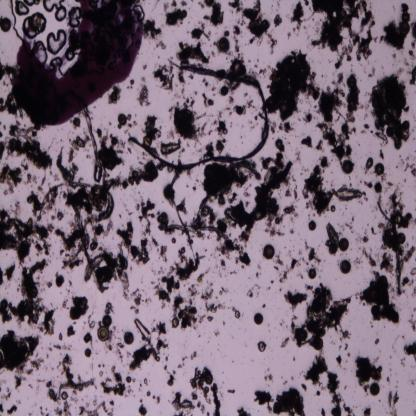Air bubble: (42, 27, 70, 55), (44, 0, 67, 20), (12, 0, 30, 16), (94, 165, 101, 183)
Background material: (266, 50, 322, 121), (367, 72, 411, 151), (0, 205, 54, 266), (84, 248, 137, 304), (201, 159, 261, 207), (9, 258, 50, 327), (306, 0, 361, 51), (177, 282, 229, 330), (7, 122, 54, 172), (360, 270, 400, 325), (166, 98, 210, 142), (303, 280, 334, 340), (302, 167, 336, 220), (240, 181, 268, 243), (320, 118, 356, 165), (0, 329, 41, 370), (115, 162, 163, 187), (319, 84, 346, 126), (326, 292, 353, 332), (244, 0, 270, 40), (175, 38, 212, 66), (98, 135, 126, 172), (171, 250, 203, 281), (68, 187, 104, 214), (355, 354, 383, 388), (273, 388, 307, 416), (56, 146, 80, 183), (134, 198, 156, 238), (129, 342, 160, 369), (326, 370, 344, 416), (152, 62, 176, 94), (260, 150, 285, 180), (0, 163, 22, 197), (304, 353, 326, 387), (347, 71, 361, 124), (356, 27, 375, 64), (224, 203, 249, 230), (384, 22, 408, 50), (378, 222, 400, 252), (334, 40, 355, 70), (98, 374, 126, 396), (151, 280, 172, 309), (40, 304, 58, 337), (285, 290, 309, 314), (187, 364, 209, 390), (116, 220, 134, 251), (395, 152, 416, 178), (78, 398, 108, 416), (389, 186, 409, 213), (360, 0, 377, 31), (132, 238, 151, 265), (60, 352, 76, 384), (252, 390, 273, 414), (68, 295, 88, 320), (218, 236, 242, 256), (291, 0, 305, 34), (144, 113, 161, 139), (190, 21, 212, 41), (12, 361, 26, 392), (67, 134, 91, 152), (57, 252, 80, 270), (235, 246, 252, 269), (144, 16, 160, 40), (163, 8, 184, 26), (378, 252, 394, 275), (211, 0, 225, 25), (137, 83, 151, 108), (26, 190, 41, 213), (161, 275, 180, 293), (261, 196, 278, 216), (106, 84, 122, 104), (362, 246, 377, 267), (151, 318, 168, 336), (212, 382, 221, 416), (53, 399, 71, 416), (152, 337, 172, 352), (278, 120, 294, 138), (339, 122, 357, 138), (278, 264, 292, 284), (157, 211, 170, 232), (377, 200, 390, 221), (107, 176, 125, 191), (330, 70, 344, 89), (404, 340, 416, 362), (264, 228, 286, 240), (403, 244, 416, 264), (172, 295, 184, 316), (170, 391, 182, 412), (200, 90, 214, 108), (308, 247, 322, 265), (31, 352, 45, 370), (267, 32, 278, 54), (0, 130, 8, 159), (317, 151, 329, 170), (162, 185, 176, 201), (130, 287, 142, 305), (54, 270, 66, 288), (201, 142, 213, 160), (283, 204, 298, 218), (176, 146, 186, 166), (407, 64, 416, 86), (402, 212, 416, 226), (300, 135, 314, 149), (226, 80, 238, 96), (158, 244, 168, 263), (290, 314, 297, 341), (85, 313, 96, 330), (230, 0, 244, 13), (178, 198, 188, 216), (4, 264, 15, 280), (273, 10, 282, 29), (340, 324, 350, 341), (218, 119, 228, 136), (343, 403, 356, 416), (0, 309, 13, 322), (226, 93, 238, 107), (197, 123, 209, 137), (110, 366, 121, 381), (113, 347, 124, 362), (47, 194, 56, 212), (266, 217, 284, 226), (408, 313, 416, 333), (1, 387, 11, 403), (164, 130, 176, 143), (245, 96, 256, 110), (217, 258, 227, 273), (267, 116, 277, 131), (177, 355, 187, 370), (235, 37, 242, 58), (53, 343, 71, 351), (290, 257, 301, 270), (7, 403, 18, 416), (49, 389, 60, 402), (374, 130, 388, 140), (156, 37, 166, 51), (281, 335, 291, 349), (334, 353, 343, 368), (274, 251, 283, 266), (237, 407, 252, 416), (177, 69, 186, 84), (104, 303, 116, 314), (249, 67, 261, 78), (93, 126, 104, 138), (138, 403, 148, 416), (83, 332, 93, 345), (216, 139, 224, 155), (91, 233, 99, 249), (233, 23, 242, 37), (66, 324, 75, 338), (13, 201, 20, 219), (359, 100, 370, 111), (140, 296, 152, 306), (264, 371, 274, 383), (196, 271, 206, 283), (172, 410, 191, 416), (22, 157, 30, 171), (164, 266, 174, 277), (352, 256, 362, 267), (388, 407, 400, 416), (190, 348, 199, 360), (304, 111, 313, 123), (128, 384, 135, 399), (38, 403, 46, 416), (393, 390, 399, 407), (0, 266, 5, 286), (140, 151, 150, 161), (316, 139, 325, 150), (362, 405, 371, 416), (198, 401, 205, 415), (402, 56, 410, 68), (368, 66, 376, 78), (293, 185, 299, 201), (66, 396, 79, 403), (388, 390, 393, 408), (411, 20, 416, 38), (185, 98, 195, 107), (161, 2, 171, 11), (252, 111, 262, 120), (151, 236, 159, 247), (396, 67, 404, 78), (62, 298, 70, 309), (91, 395, 98, 407), (247, 118, 254, 130), (40, 172, 46, 186), (238, 107, 247, 116), (202, 78, 210, 88), (26, 368, 36, 376), (260, 70, 270, 78), (105, 342, 113, 352), (30, 172, 38, 182), (355, 233, 362, 244), (373, 354, 381, 363), (227, 267, 236, 275), (364, 180, 372, 189), (284, 189, 292, 198), (122, 127, 130, 136), (370, 203, 378, 212), (208, 249, 217, 257), (401, 277, 409, 286), (280, 142, 286, 154), (167, 371, 175, 380), (56, 210, 63, 220), (45, 378, 52, 388), (290, 226, 297, 236), (363, 383, 370, 393), (197, 0, 204, 10), (172, 316, 178, 327), (300, 382, 306, 393), (410, 287, 416, 298), (77, 373, 83, 384), (294, 152, 302, 160), (116, 341, 124, 349), (248, 36, 256, 44), (52, 173, 60, 181), (384, 186, 392, 194), (107, 408, 115, 416), (345, 222, 353, 230), (195, 146, 204, 153), (226, 388, 236, 394), (109, 330, 114, 342), (380, 172, 386, 182), (400, 357, 406, 367), (184, 140, 190, 150), (380, 148, 385, 160), (200, 14, 210, 20), (214, 330, 221, 338), (244, 198, 251, 206), (205, 397, 212, 405), (363, 166, 370, 174), (409, 40, 416, 48), (46, 281, 54, 288), (362, 236, 369, 244), (192, 392, 199, 400), (248, 287, 253, 298), (364, 110, 369, 121), (354, 290, 360, 299), (379, 140, 388, 146), (371, 226, 376, 236), (27, 174, 32, 184), (225, 28, 230, 38), (156, 396, 161, 406), (344, 342, 349, 352), (36, 377, 46, 382), (338, 224, 345, 231), (316, 390, 323, 397), (410, 267, 416, 275), (301, 166, 309, 172), (37, 186, 43, 194), (172, 236, 178, 244), (58, 246, 64, 254), (58, 332, 64, 340), (380, 244, 388, 250), (290, 174, 296, 182), (0, 404, 5, 413), (127, 146, 132, 155), (304, 0, 309, 9), (321, 407, 326, 416), (408, 280, 415, 286), (372, 36, 378, 43), (191, 185, 197, 192), (298, 273, 304, 280), (126, 85, 133, 91), (171, 0, 177, 7), (392, 52, 398, 59), (143, 63, 149, 70), (379, 35, 384, 43), (218, 110, 223, 118), (56, 360, 60, 370), (386, 181, 394, 186), (164, 354, 169, 362), (134, 308, 139, 316), (287, 31, 291, 41), (410, 380, 416, 386), (273, 264, 279, 270), (298, 247, 302, 256), (255, 272, 261, 278), (109, 400, 115, 406), (378, 193, 382, 202), (27, 384, 33, 390), (98, 370, 104, 376), (125, 351, 131, 357), (208, 129, 213, 136), (362, 196, 369, 201), (129, 305, 136, 310), (283, 379, 288, 386), (67, 287, 72, 294), (304, 244, 309, 251), (385, 376, 390, 383), (188, 73, 193, 80), (194, 89, 198, 97), (180, 88, 184, 96), (244, 191, 250, 196), (270, 278, 275, 284), (253, 62, 258, 68), (360, 129, 366, 134), (128, 210, 133, 216), (180, 0, 186, 5), (254, 284, 260, 289), (364, 124, 370, 129), (147, 390, 152, 396), (67, 281, 72, 287), (138, 160, 144, 165), (226, 106, 232, 111), (229, 121, 233, 128), (51, 214, 55, 221), (402, 287, 406, 294), (258, 263, 262, 270), (410, 49, 414, 56), (152, 393, 156, 400), (364, 228, 368, 235), (392, 5, 396, 12), (90, 361, 93, 370), (127, 123, 132, 128), (351, 216, 355, 222), (144, 378, 148, 384), (45, 352, 49, 358), (412, 408, 415, 416), (113, 325, 117, 331), (49, 169, 53, 175), (256, 291, 260, 297), (267, 366, 271, 372), (338, 232, 344, 236), (350, 64, 353, 72), (204, 246, 207, 253), (280, 375, 284, 380), (222, 321, 226, 326), (173, 370, 177, 375), (16, 288, 20, 293), (370, 129, 374, 134), (359, 200, 363, 205), (402, 335, 406, 340), (279, 321, 283, 326), (28, 411, 32, 416), (142, 77, 146, 82), (362, 191, 366, 196), (128, 115, 132, 120), (139, 398, 143, 403), (413, 306, 416, 312), (342, 210, 345, 216), (0, 386, 3, 392), (339, 345, 342, 351), (232, 306, 235, 312), (375, 339, 378, 345), (291, 375, 294, 381), (164, 364, 167, 370), (350, 230, 354, 234), (210, 52, 214, 56), (348, 352, 352, 356), (108, 122, 112, 126), (250, 358, 254, 362), (73, 321, 77, 325), (206, 412, 210, 416), (231, 359, 234, 364), (223, 138, 226, 143), (268, 322, 271, 327), (119, 214, 122, 219), (286, 325, 289, 330), (293, 356, 296, 361), (139, 382, 142, 387), (263, 304, 266, 309), (302, 257, 305, 262), (102, 363, 105, 368), (99, 364, 102, 368), (344, 385, 346, 391), (268, 286, 271, 290), (46, 413, 50, 416), (134, 122, 137, 126), (214, 121, 218, 124), (381, 65, 384, 69), (132, 377, 134, 383), (185, 184, 189, 187), (301, 370, 304, 374), (306, 262, 309, 266), (242, 312, 245, 316), (395, 386, 398, 390), (396, 379, 399, 383), (386, 208, 388, 214), (358, 247, 362, 250), (300, 172, 303, 176), (390, 367, 392, 372), (50, 347, 52, 352), (413, 208, 416, 211), (378, 399, 381, 402), (229, 112, 232, 115), (45, 407, 48, 410), (413, 150, 416, 153), (299, 372, 301, 376), (370, 326, 374, 328), (404, 179, 406, 183), (390, 356, 392, 360), (280, 288, 282, 292), (198, 335, 200, 338), (231, 335, 233, 338), (217, 348, 219, 351), (386, 411, 388, 414), (366, 223, 368, 226), (345, 207, 347, 210), (370, 322, 372, 324), (413, 137, 415, 139), (268, 331, 270, 333), (414, 199, 416, 201)
Cellulose filter fibre: (30, 180, 116, 228), (165, 171, 196, 257), (75, 210, 94, 268), (83, 107, 101, 166), (165, 222, 225, 238), (55, 379, 95, 396), (395, 245, 403, 296)
Cotton: (125, 58, 273, 172)
Diatom: (325, 223, 340, 255), (334, 187, 363, 202), (134, 318, 151, 339), (230, 59, 247, 77), (160, 140, 179, 155), (97, 325, 110, 342), (262, 244, 275, 260), (341, 159, 354, 174), (296, 326, 308, 342), (123, 330, 135, 346), (340, 260, 352, 276), (374, 162, 386, 177), (0, 17, 12, 32), (248, 20, 260, 34), (339, 237, 350, 252), (370, 381, 381, 396), (218, 38, 230, 51), (253, 312, 265, 325), (399, 20, 410, 34), (314, 336, 324, 351), (142, 133, 151, 148), (180, 399, 192, 410), (102, 314, 113, 326), (204, 372, 214, 385), (378, 273, 388, 286), (117, 114, 127, 126), (370, 305, 380, 316), (385, 125, 394, 137), (73, 116, 82, 128), (374, 181, 383, 193), (308, 219, 317, 231), (258, 340, 267, 352), (366, 156, 373, 169), (280, 102, 288, 113), (397, 232, 405, 243), (394, 212, 402, 223), (275, 137, 283, 148), (309, 268, 316, 280), (401, 12, 410, 21), (0, 299, 8, 309), (403, 120, 410, 131), (221, 85, 228, 96), (84, 348, 92, 356), (402, 219, 408, 229), (182, 9, 188, 17), (126, 376, 132, 384), (62, 392, 68, 400), (330, 204, 336, 212), (203, 207, 208, 216), (205, 0, 214, 5), (129, 78, 135, 85), (168, 378, 173, 386), (235, 310, 240, 318), (181, 247, 186, 253), (204, 386, 209, 392), (347, 56, 352, 61)
Pen: (11, 0, 148, 129)
